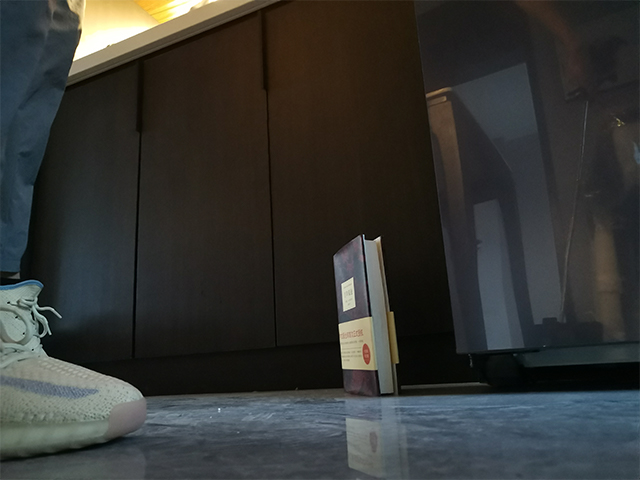book: (330, 231, 401, 398)
cabinet: (124, 2, 461, 397)
